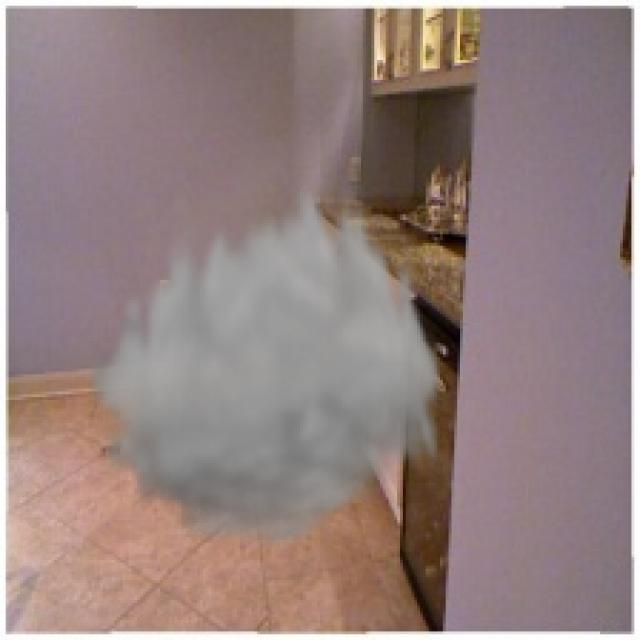smoke: (83, 172, 446, 554)
